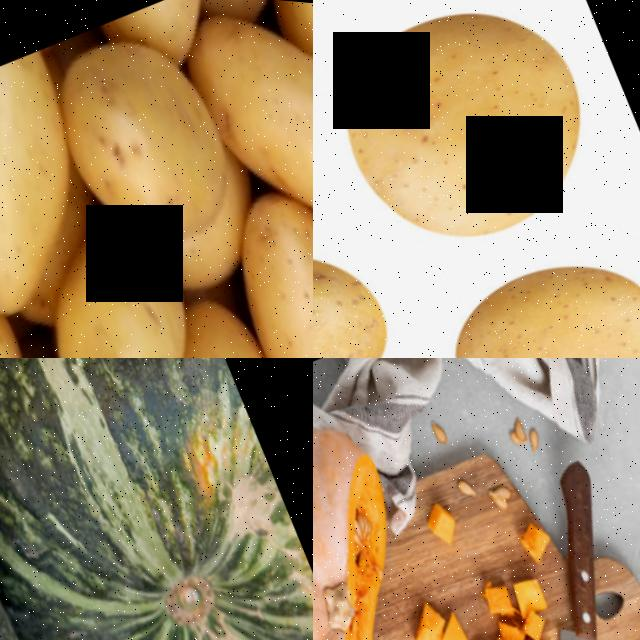potato: (313, 0, 640, 288), (27, 4, 270, 273), (0, 44, 138, 334), (161, 0, 313, 263), (14, 207, 239, 358), (427, 204, 640, 358), (200, 163, 313, 358), (270, 0, 313, 131)
pumpkin: (0, 358, 313, 640), (313, 392, 509, 640), (0, 358, 116, 640)
